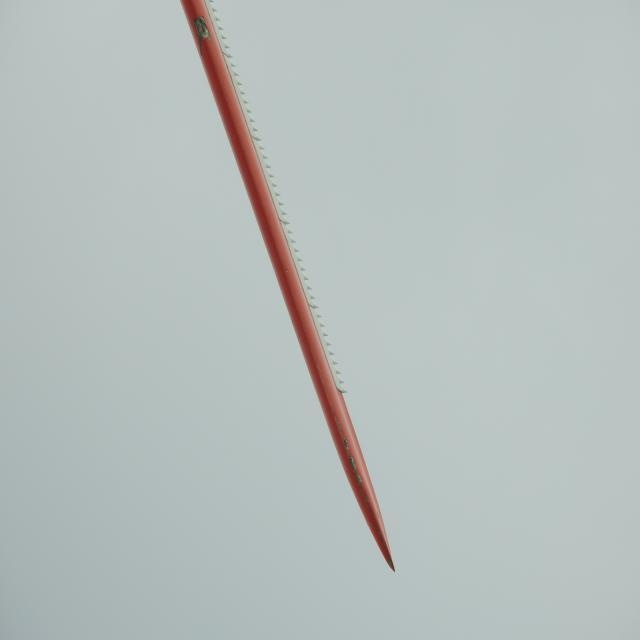Coating_defects: (190, 15, 212, 52)
EROSION: (340, 435, 369, 488)
